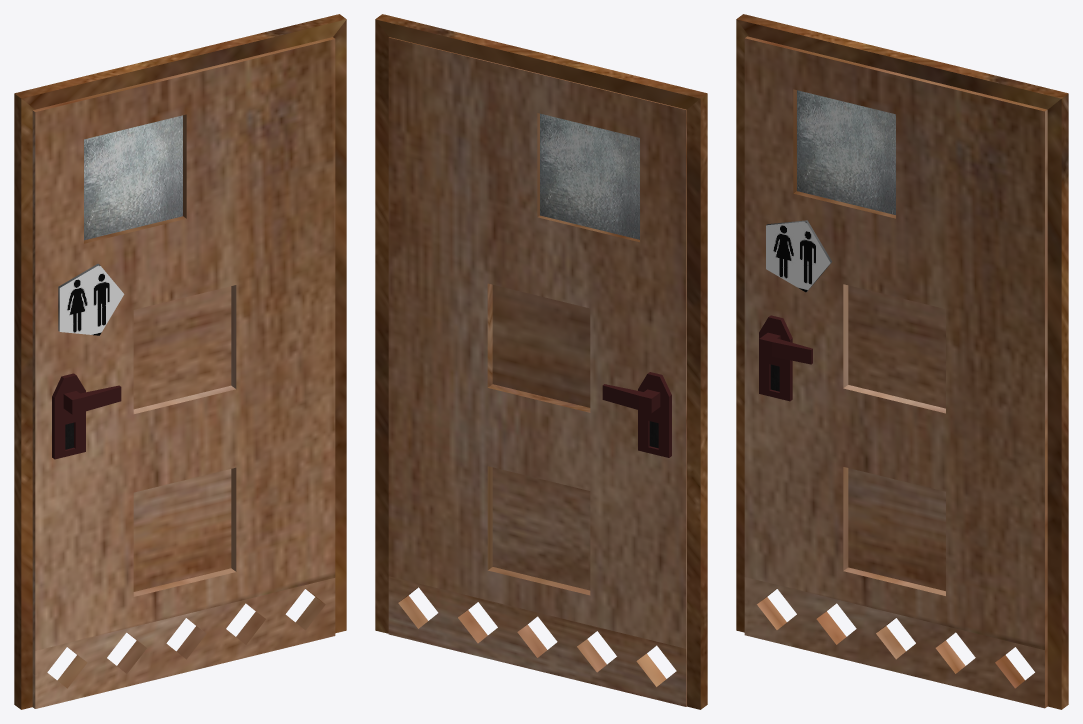
The model's file is door1.FBX.
3 renders of one model, left to right at view 1: azimuth 30°, elevation 25°; view 2: azimuth 150°, elevation 25°; view 3: azimuth 330°, elevation 25°, orthographic.
Visible parts, largest first — view 1: Box001, Box006, Box005, Cylinder001, Box002, Box003; view 2: Box001, Box006, Box005, Box002, Box003; view 3: Box001, Box006, Box005, Cylinder001, Box002, Box003.
Boxes of the visible parts, box(x1,y1,x2,y2) form: Box001: box(32, 37, 335, 708); Box006: box(14, 14, 346, 709); Box005: box(84, 115, 182, 240); Cylinder001: box(58, 263, 124, 335); Box002: box(52, 373, 85, 459); Box003: box(63, 385, 121, 414); Box001: box(388, 37, 686, 706); Box006: box(375, 14, 707, 709); Box005: box(540, 113, 639, 239); Box002: box(638, 372, 671, 457); Box003: box(602, 384, 660, 413); Box001: box(744, 36, 1047, 708); Box006: box(736, 14, 1068, 709); Box005: box(797, 90, 895, 214); Cylinder001: box(766, 220, 831, 292); Box002: box(759, 315, 792, 401); Box003: box(759, 332, 812, 364).
Size of the model in its own units: 109 by 195 by 19.17.
Materials: 7 (7 with a texture image).
